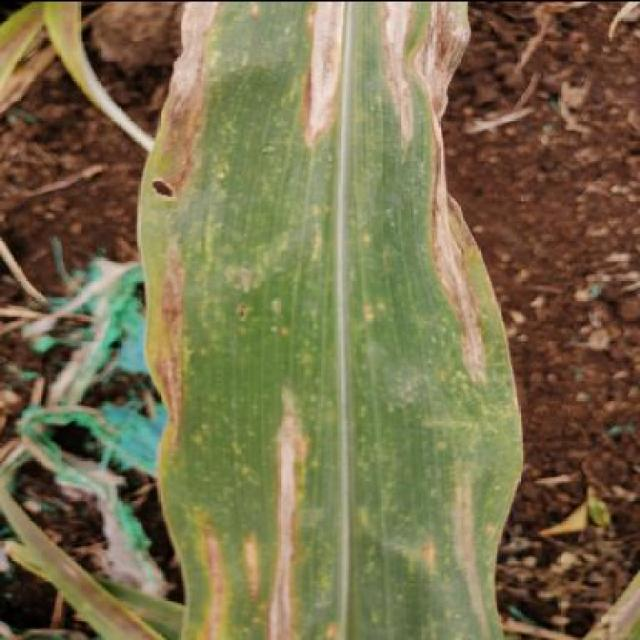Corn_Leaf_Blight: (137, 0, 517, 640)
